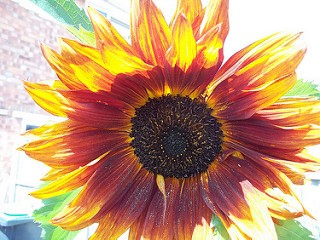flower: (10, 0, 320, 240)
